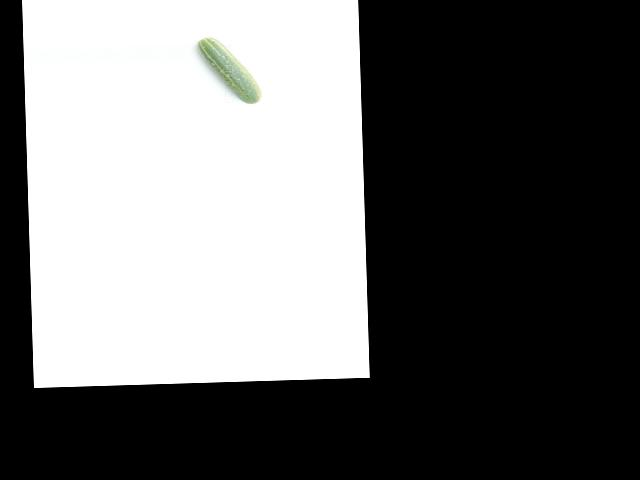cucumber: (197, 35, 262, 105)
